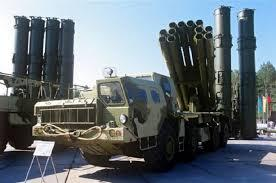MIL_SAM_TEL: (34, 19, 229, 168)
